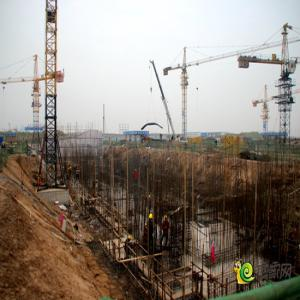yellow: (150, 213, 154, 221), (128, 236, 131, 241)
